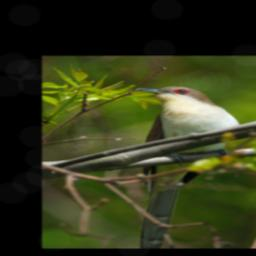Cuckoo: (131, 85, 244, 248)
